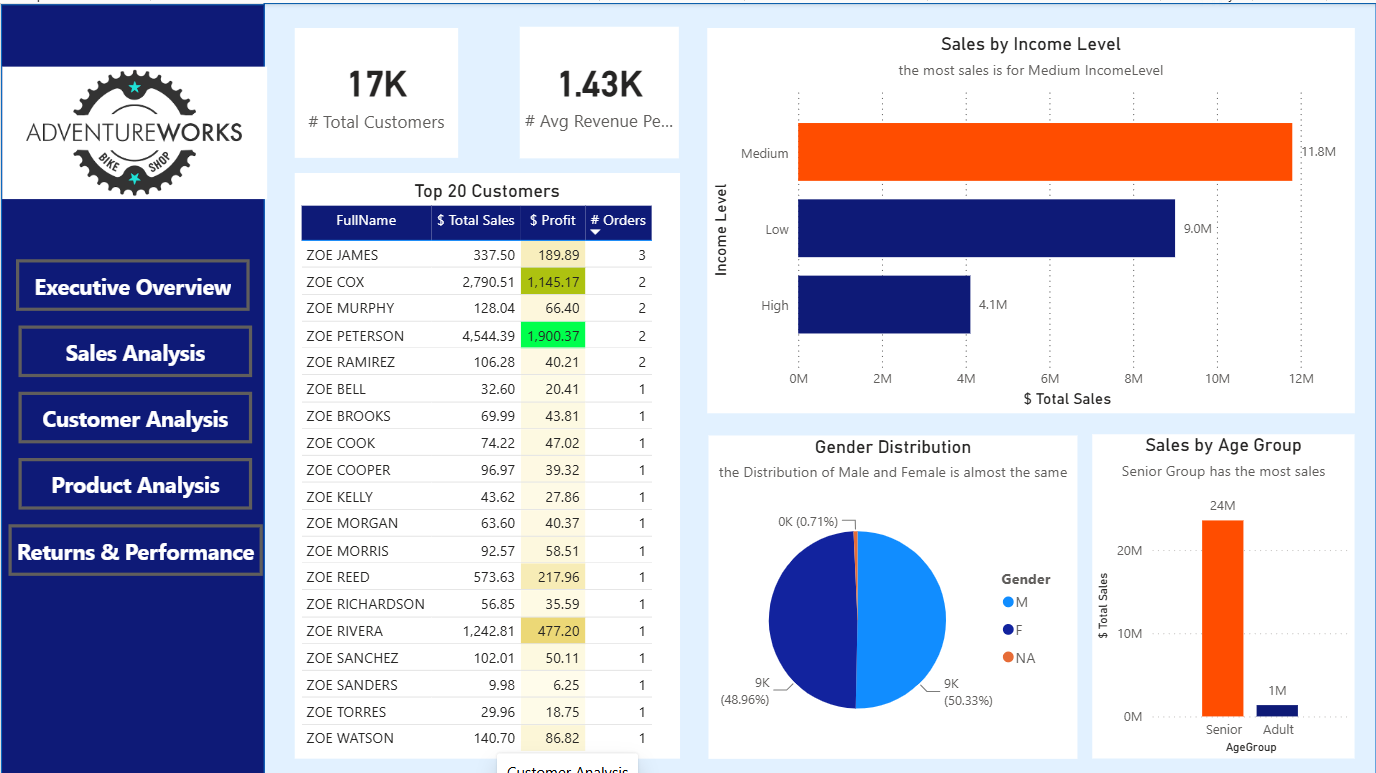

Layout of this report page (visuals, bound fields, positions):
{"tool":"powerbi","page":{"name":"Customer Analysis","canvas":[1280,720],"ordinal":2},"visuals":[{"type":"shape","box":[244.4,0,1035.4,720.1],"z":0},{"type":"shape","box":[0,1.4,245.3,719.8],"z":500,"group":"g2"},{"type":"card","fields":{"Values":["Fact_Sales.# Total Customers"]},"box":[273.1,23.3,152.3,120.8],"z":1000},{"type":"card","fields":{"Values":["Fact_Sales.Avg Revenue Per Customer"]},"box":[483,22,148.2,122.1],"z":2000},{"type":"pieChart","title":"Gender Distribution","fields":{"Y":["Fact_Sales.# Total Customers"],"Category":["Dim_Customer.Gender"]},"box":[657.9,402.1,343.6,300.4],"z":3000},{"type":"barChart","title":"Sales by Income Level","fields":{"Category":["Dim_Customer.Income Level"],"Y":["Fact_Sales.$ Total Sales"]},"box":[657.3,23.3,602.4,358.1],"z":4000},{"type":"columnChart","title":"Sales by Age Group","fields":{"Category":["Dim_Customer.AgeGroup"],"Y":["Fact_Sales.$ Total Sales"]},"box":[1015.4,400.7,244.3,301.9],"z":5000},{"type":"tableEx","title":"Top 20 Customers","fields":{"Values":["Dim_Customer.FullName","Fact_Sales.$ Total Sales","Fact_Sales.$ Profit","Fact_Sales.# Orders"]},"box":[273.1,157.8,358.1,544.8],"z":6000},{"type":"group","id":"g1","title":"Navigation","box":[0,0,247.3,721.6],"z":7000},{"type":"group","id":"g2","title":"Group 1","box":[0,1.4,245.3,719.8],"z":12000,"group":"g1"},{"type":"actionButton","box":[13.8,238.4,217.3,48],"z":12003,"group":"g2"},{"type":"image","box":[1.1,0,246.3,242.1],"z":12500,"group":"g1"},{"type":"actionButton","box":[16.6,300.1,217.3,48],"z":13000,"group":"g2"},{"type":"actionButton","box":[16.6,423.4,217.3,48],"z":14000,"group":"g2"},{"type":"actionButton","box":[7,485.1,236.5,48],"z":15000,"group":"g2"},{"type":"actionButton","box":[16.6,361.8,217.3,48],"z":16000,"group":"g2"}]}

Visuals, with their boxes in screenshot pixels (x1, y1, x2, y2), scaled from the page's 1280x720 canvas onto the 1376x773 screenshot:
shape: left=263, top=0, right=1375, bottom=772
shape: left=0, top=2, right=264, bottom=772
card - Fact_Sales.# Total Customers: left=294, top=25, right=457, bottom=155
card - Fact_Sales.Avg Revenue Per Customer: left=519, top=24, right=679, bottom=155
"Gender Distribution" pieChart: left=707, top=432, right=1077, bottom=754
"Sales by Income Level" barChart: left=707, top=25, right=1354, bottom=409
"Sales by Age Group" columnChart: left=1092, top=430, right=1354, bottom=754
"Top 20 Customers" tableEx: left=294, top=169, right=679, bottom=754
"Navigation" group: left=0, top=0, right=266, bottom=772
"Group 1" group: left=0, top=2, right=264, bottom=772
actionButton: left=15, top=256, right=248, bottom=307
image: left=1, top=0, right=266, bottom=260
actionButton: left=18, top=322, right=251, bottom=374
actionButton: left=18, top=455, right=251, bottom=506
actionButton: left=8, top=521, right=262, bottom=572
actionButton: left=18, top=388, right=251, bottom=440
